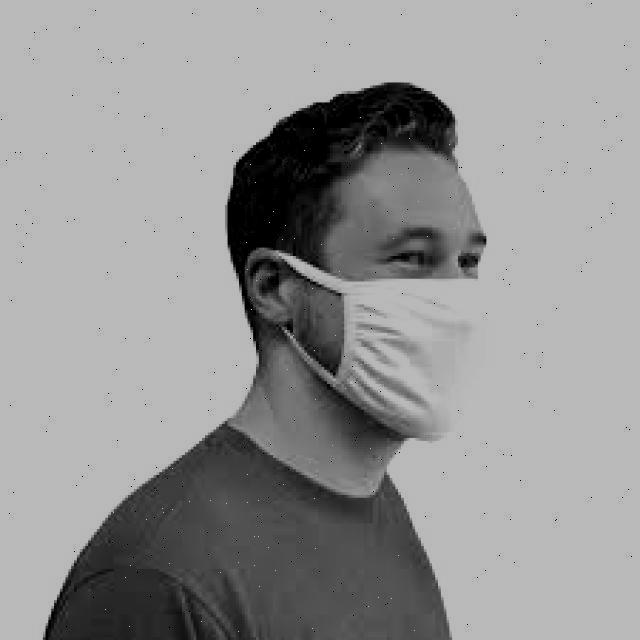fake: (332, 272, 506, 446)
real: (324, 152, 495, 451)
